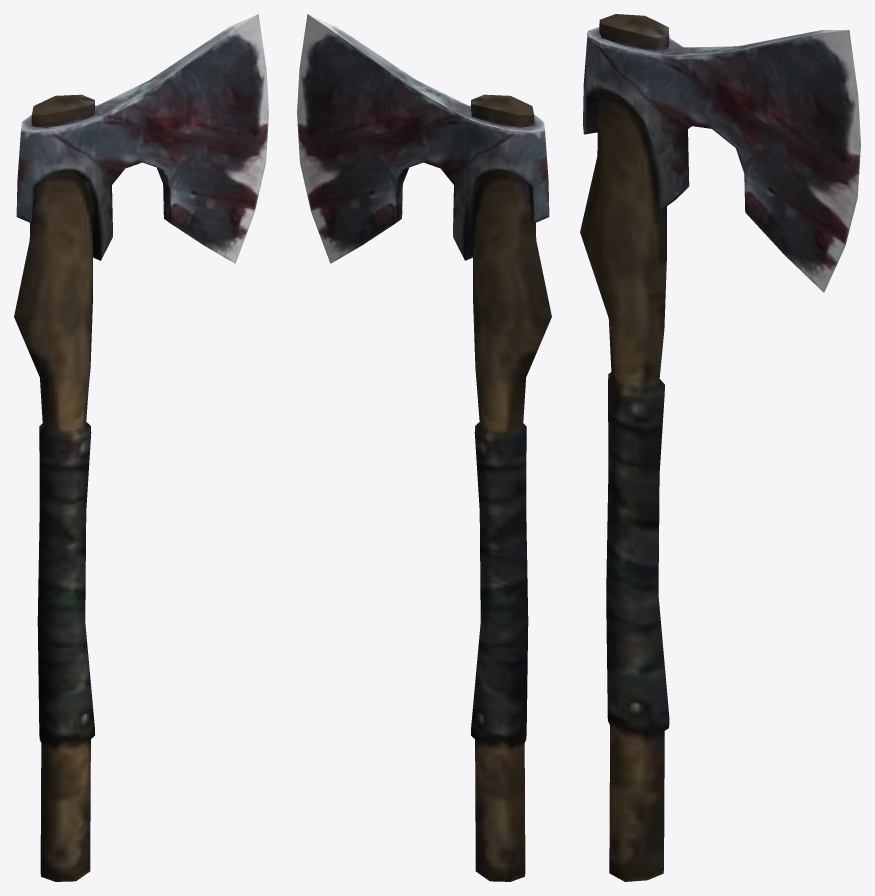
The model's file is weapon-hunter-s-axe.glb.
3 renders of one model, left to right at view 1: azimuth 30°, elevation 25°; view 2: azimuth 150°, elevation 25°; view 3: azimuth 330°, elevation 25°, orthographic. The views are drawn at different scales.
Visible parts, largest first — view 1: axeM_MDL_q; view 2: axeM_MDL_q; view 3: axeM_MDL_q.
Boxes of the visible parts, left/top/right/bottom form: axeM_MDL_q: left=14, top=14, right=268, bottom=881; axeM_MDL_q: left=297, top=14, right=551, bottom=881; axeM_MDL_q: left=580, top=14, right=860, bottom=881.
Size of the model in its own units: 0.3808 by 1.16 by 0.0657.
1 material, 1 textured.
